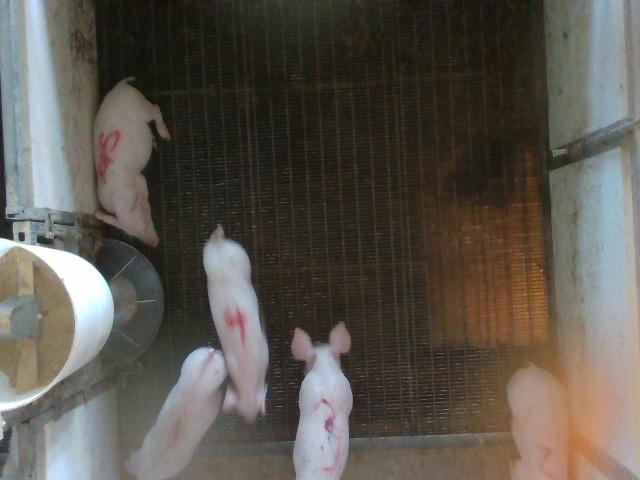pig-1: (125, 348, 226, 479)
pig-3: (291, 322, 352, 478)
pig-4: (202, 225, 268, 422)
pig-5: (95, 76, 170, 246)
